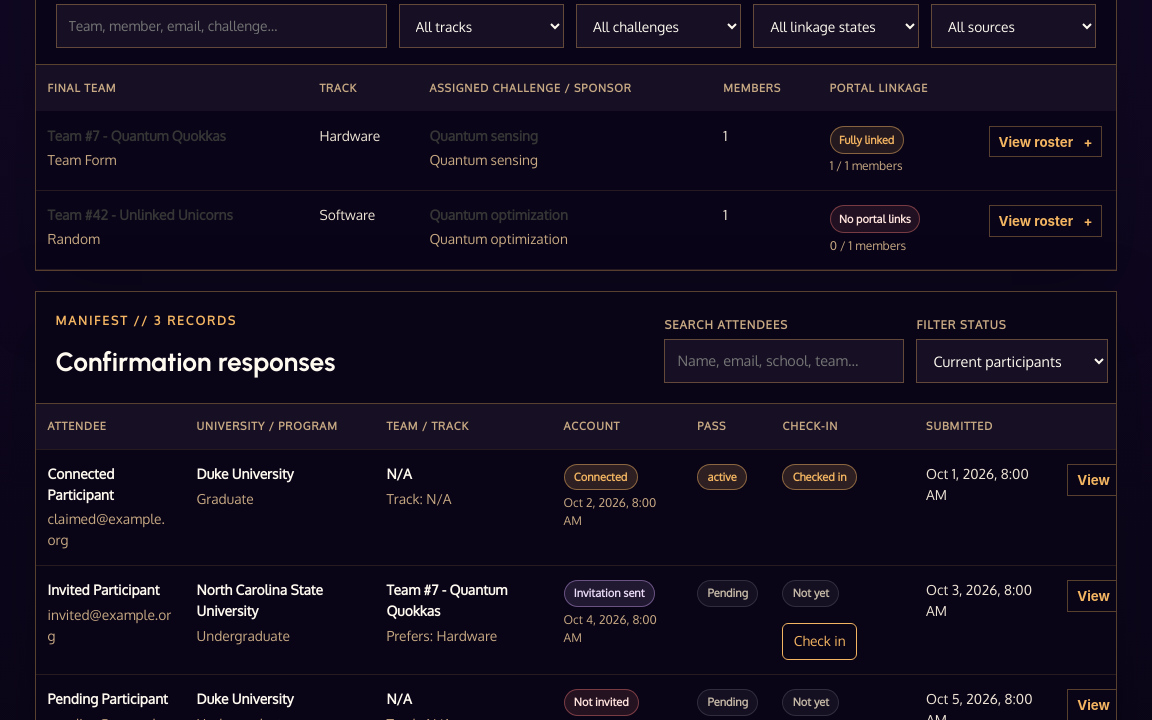
Test: DuQuantumAdminPage › searches a full name and confirms arrival without a claimed account or pass
This screenshot has width=1152, height=720.
(page scrolled)
Expected: the text "Invited Participant" is shown, [48,580,172,601]
Step 1. Type "Invited Participant" into the search field labelled "Search attendees" → (784, 361), box [664,339,904,383]
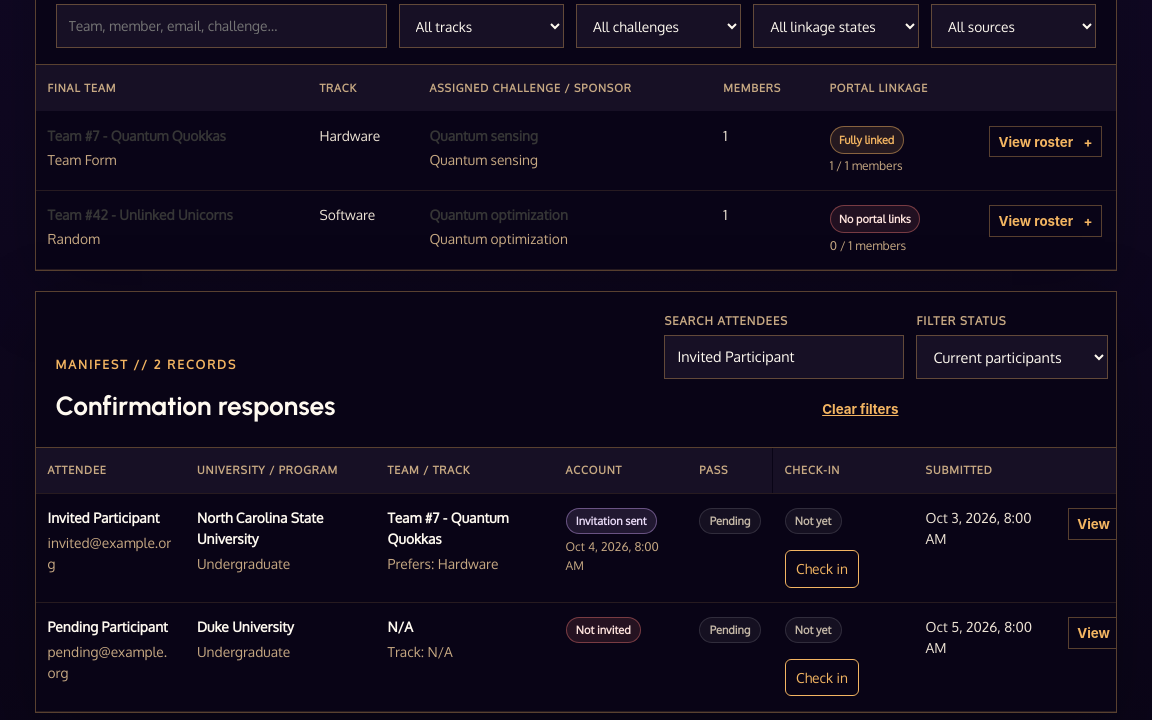
Result: the text "Connected Participant" is gone
Step 2. Click the button with aria-label "Check in Invited Participant" → (822, 569), box [785,550,859,588]
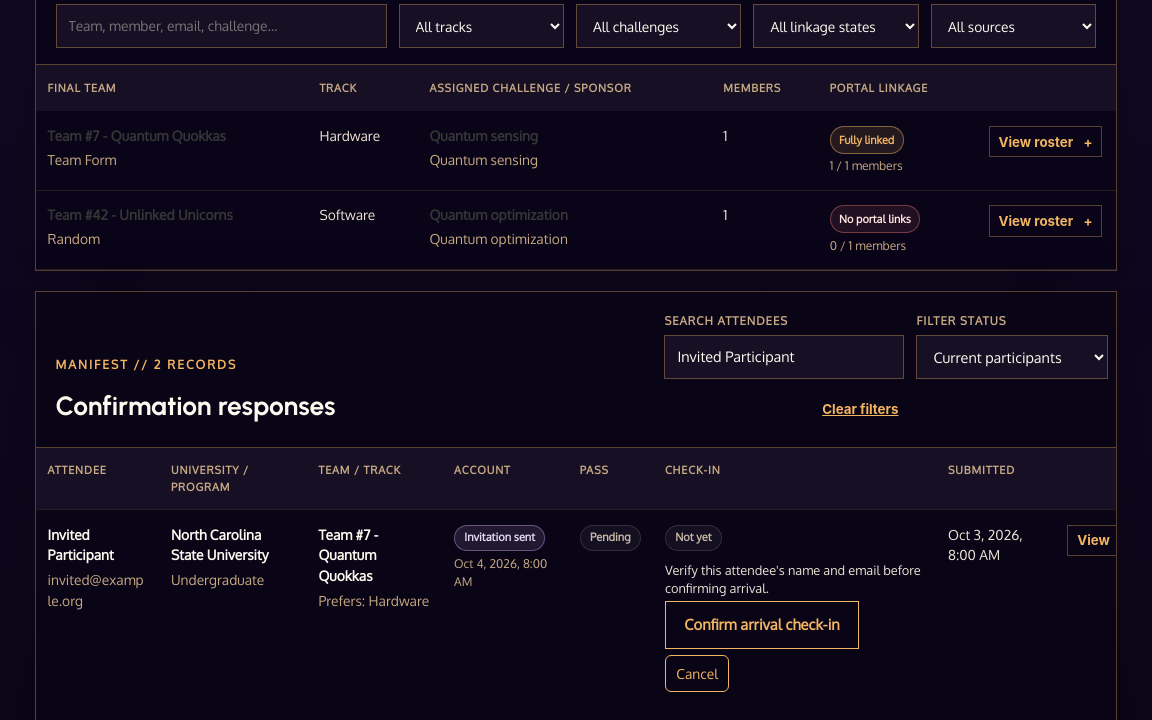
Step 3. Click the button "Confirm arrival check-in" → (762, 625), box [665,601,859,649]
(page scrolled)
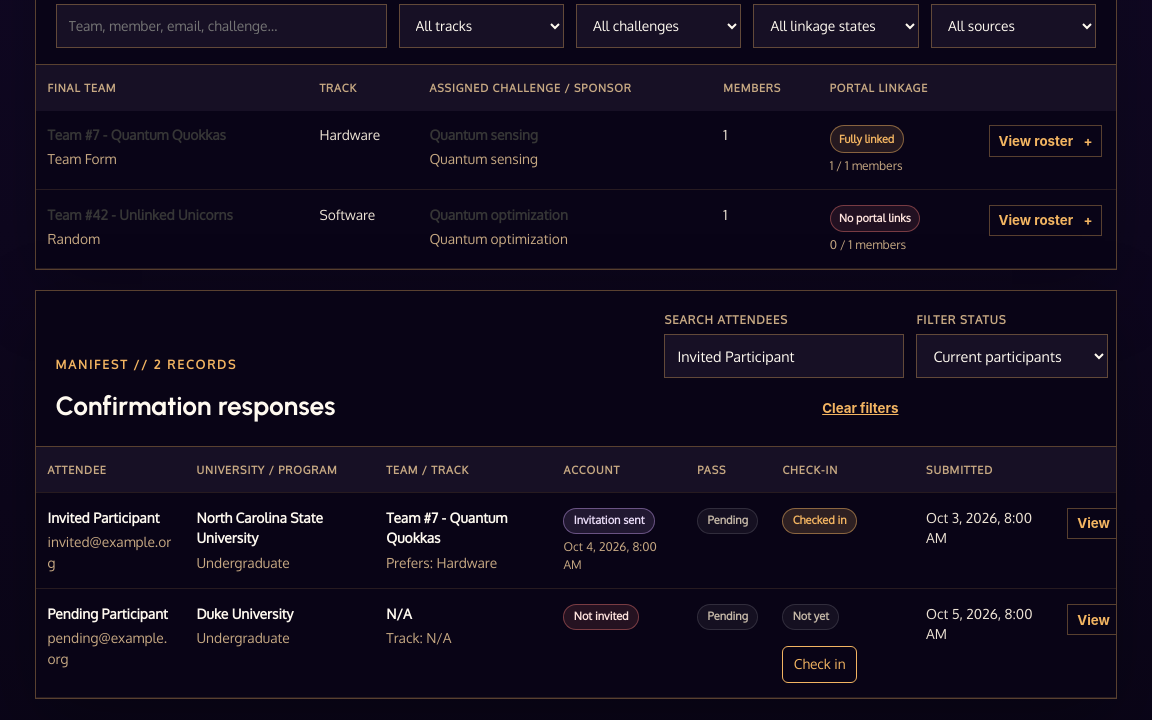
Result: the text "Checked in" is shown at [782,508,857,534]
